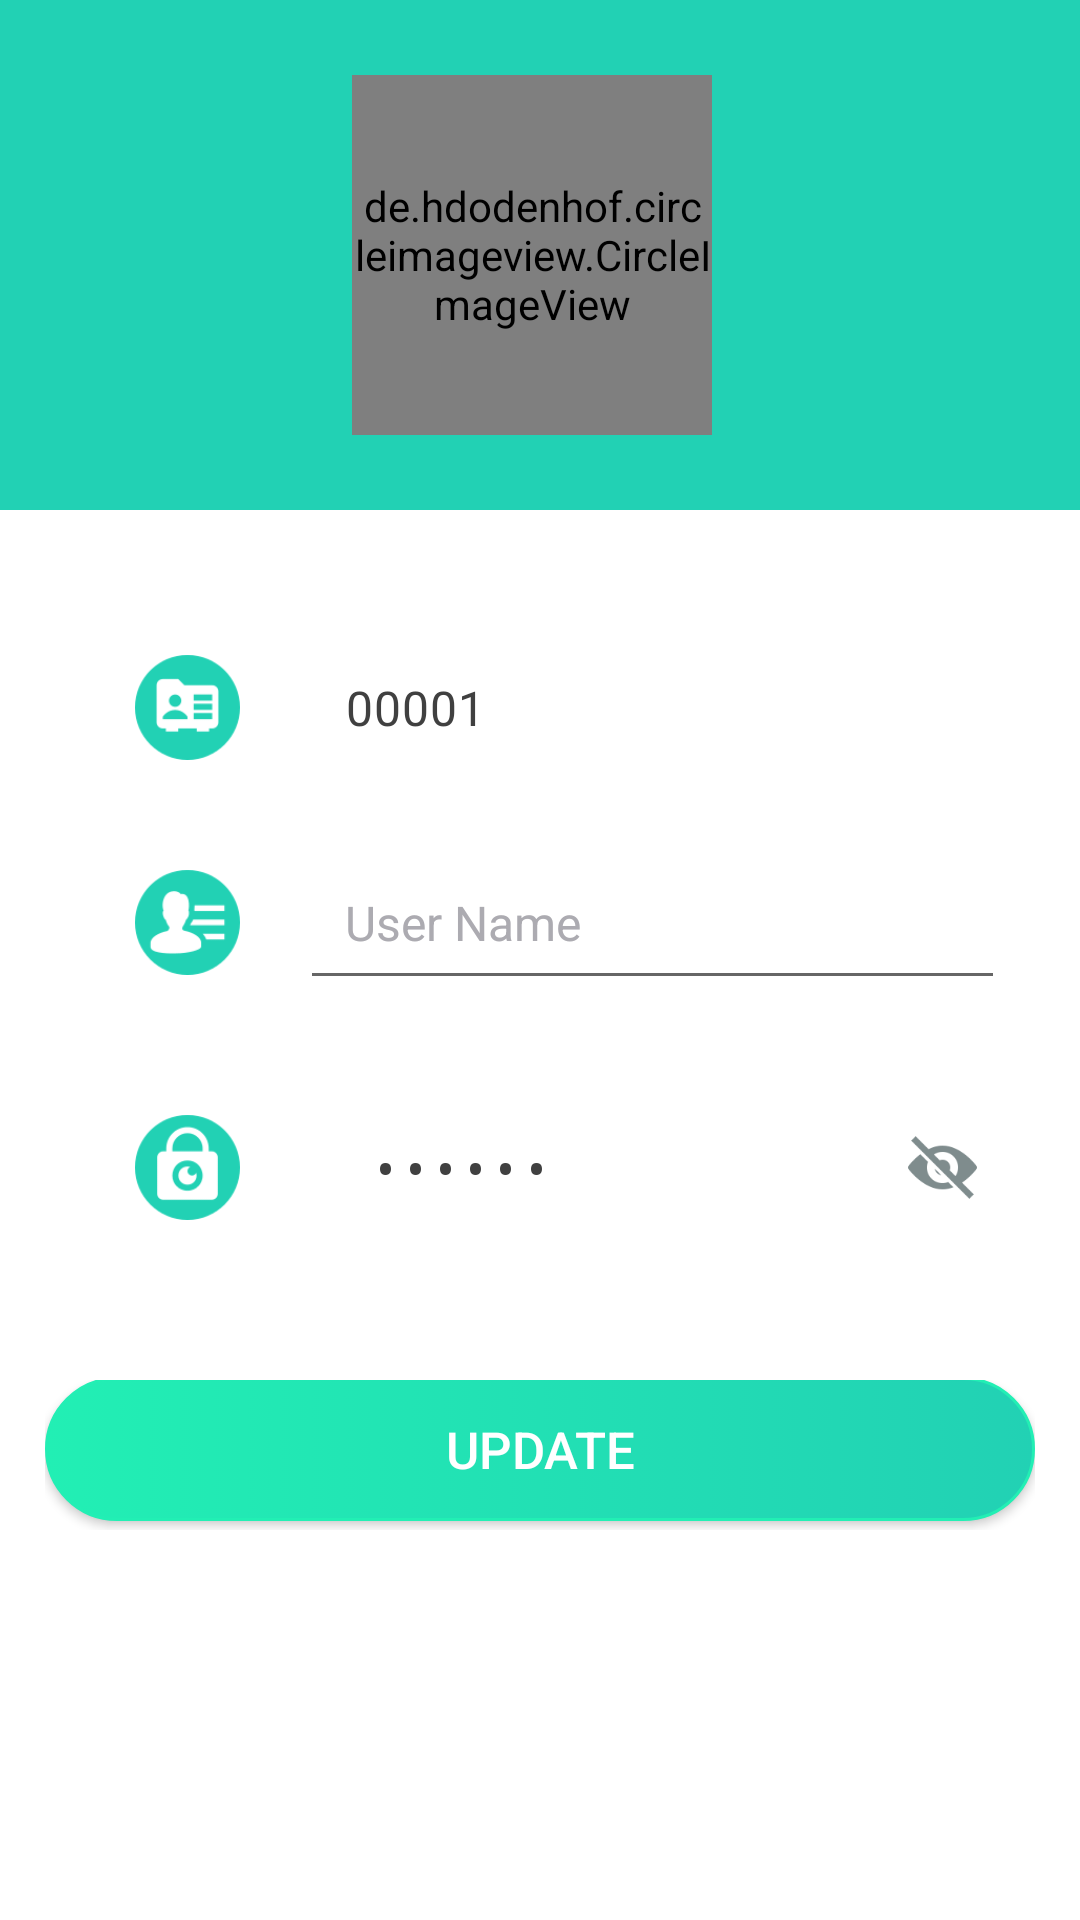

Point at icon controls on the screen. Image size 1080px x 1920px, points as point (x, y).
hide password: point (942, 1167)
user id: point (187, 707)
user key: point (187, 1167)
